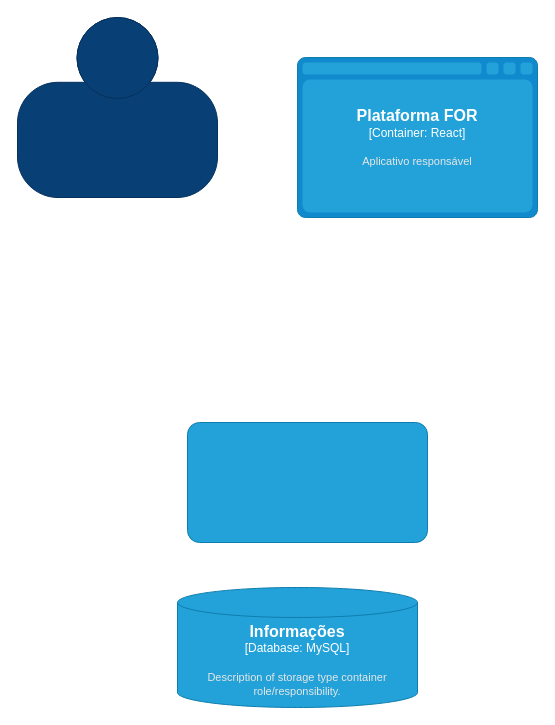
Image size: 555x725. Some labels were removed from this diagram. The shapes that lost their labels are listed below. From the top down, each one's centre as x and y in pixels, then its label:
At pixel 117 107: "Person name [Person] Consolidador".
At pixel 307 482: "API de cadastro [Framework: SpringBoot] API de interface backend".
